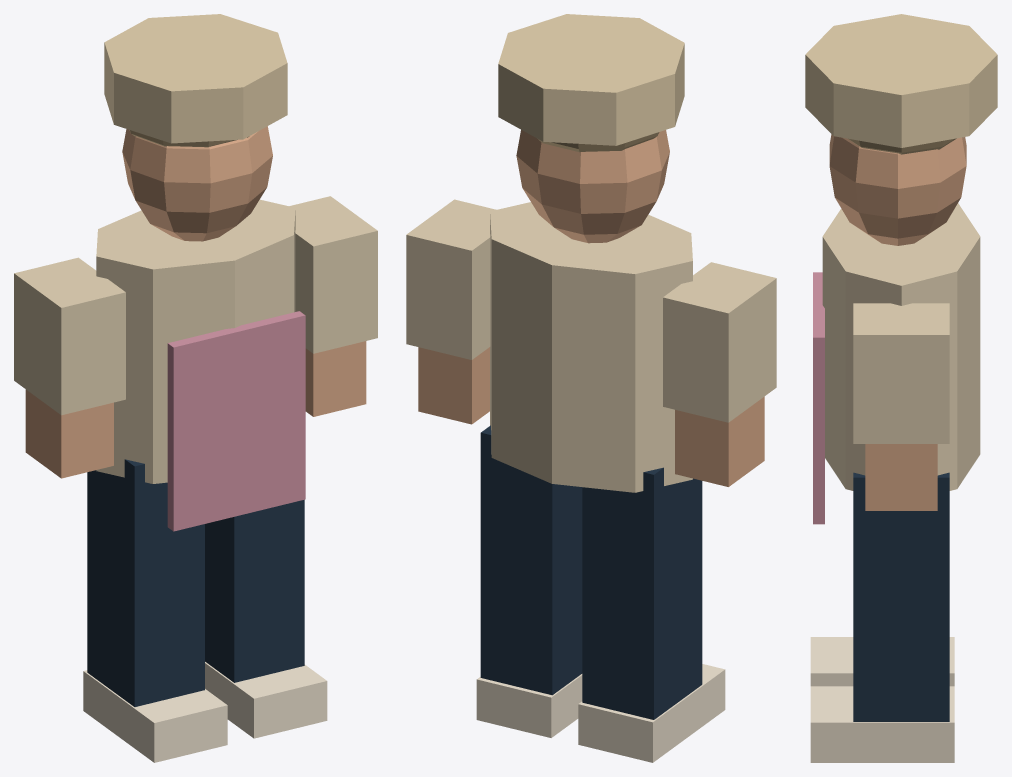
Rendered from character-market-vendor.obj.
The picture shows the model from 3 angles, left to right: view 1: azimuth 30°, elevation 25°; view 2: azimuth 150°, elevation 25°; view 3: azimuth 270°, elevation 25°; orthographic projection.
Parts seen in each view (by area): view 1: character-market-vendor; view 2: character-market-vendor; view 3: character-market-vendor.
Part boxes in pixels (box(x1,y1,x2,y2)): character-market-vendor: box(14, 14, 377, 762); character-market-vendor: box(406, 14, 776, 762); character-market-vendor: box(805, 14, 997, 762).
Bounding box in the file's own units: 1.08 × 2.14 × 0.56.
